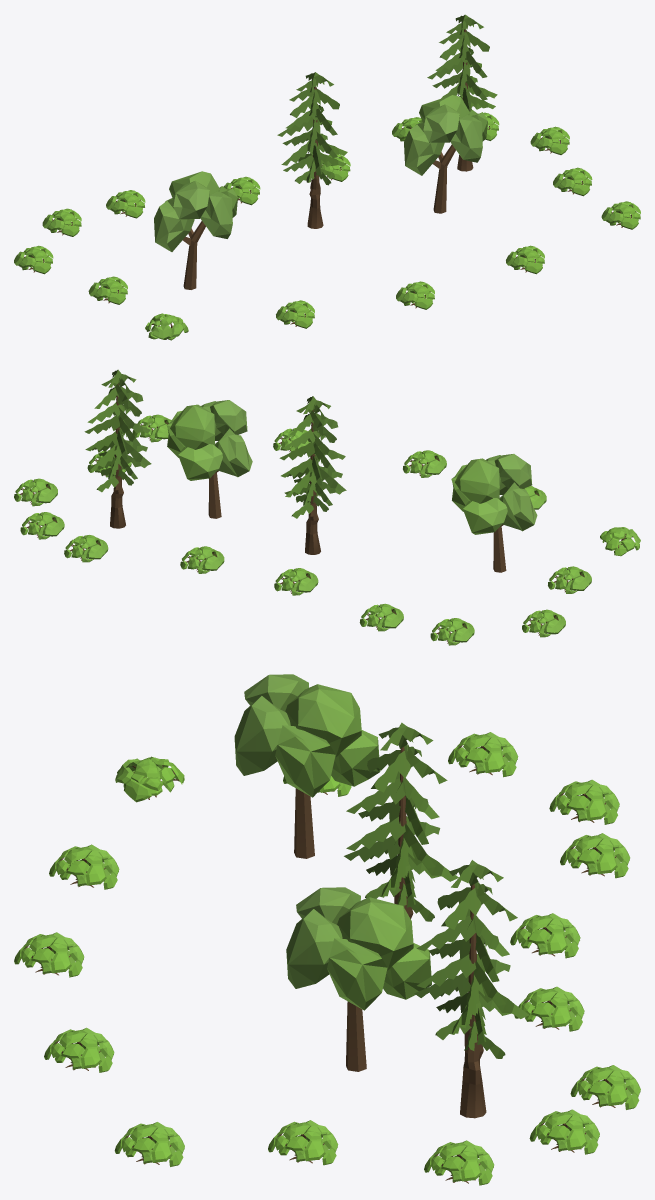
The model's file is TreeGroup 2.fbx.
The picture shows the model from 3 angles, top to bottom: view 1: azimuth 30°, elevation 25°; view 2: azimuth 150°, elevation 25°; view 3: azimuth 270°, elevation 25°; orthographic projection. The views are drawn at different scales.
Visible parts, largest first — view 1: TreeGroup__2__mesh_mesh; view 2: TreeGroup__2__mesh_mesh; view 3: TreeGroup__2__mesh_mesh.
Part boxes in pixels (x1,y1,x2,y2): TreeGroup__2__mesh_mesh: (14, 14, 640, 340); TreeGroup__2__mesh_mesh: (14, 369, 640, 645); TreeGroup__2__mesh_mesh: (14, 674, 640, 1185).
Bounding box in the file's own units: 4553 × 1244 × 2759.
